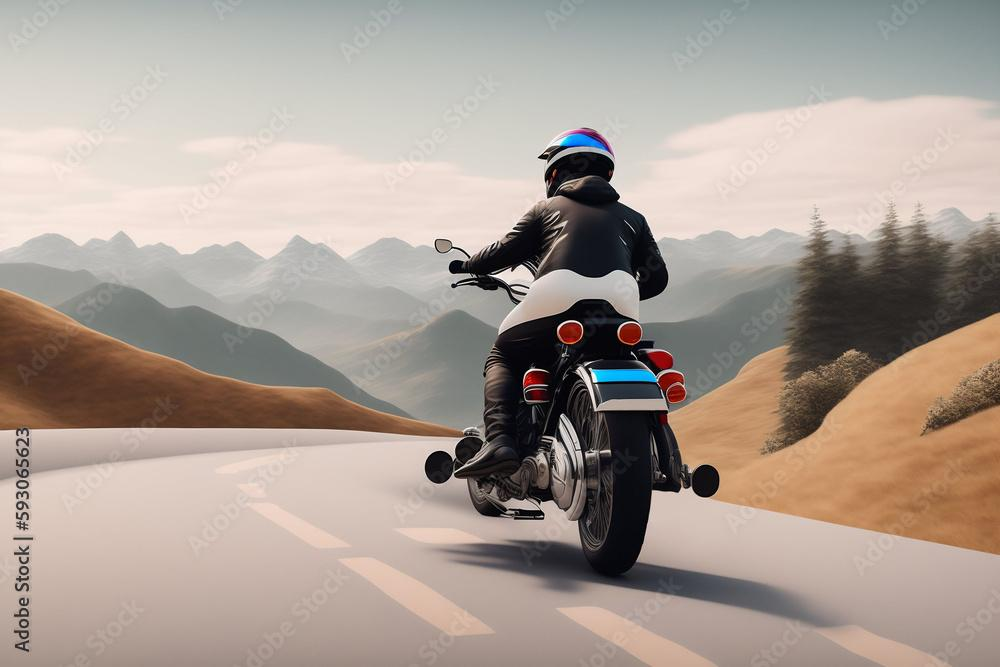helmet: (536, 126, 616, 205)
